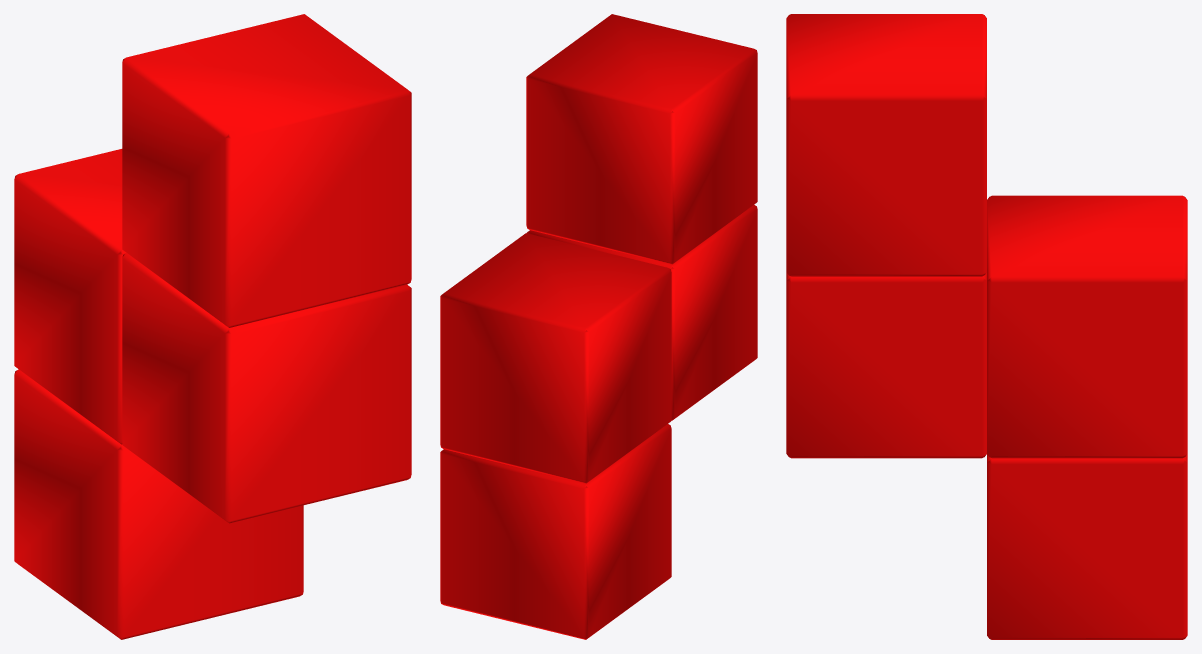
The model's file is red_block_base_link.dae.
3 renders of one model, left to right at view 1: azimuth 30°, elevation 25°; view 2: azimuth 150°, elevation 25°; view 3: azimuth 270°, elevation 25°, orthographic. The views are drawn at different scales.
Parts seen in each view (by area): view 1: root (×4); view 2: root (×4); view 3: root (×4).
Boxes of the visible parts, left/top/right/bottom form: root (×4): left=14, top=14, right=411, bottom=639; root (×4): left=440, top=14, right=757, bottom=639; root (×4): left=786, top=14, right=1187, bottom=639.
Size of the model in its own units: 0.03 by 0.09 by 0.06.
